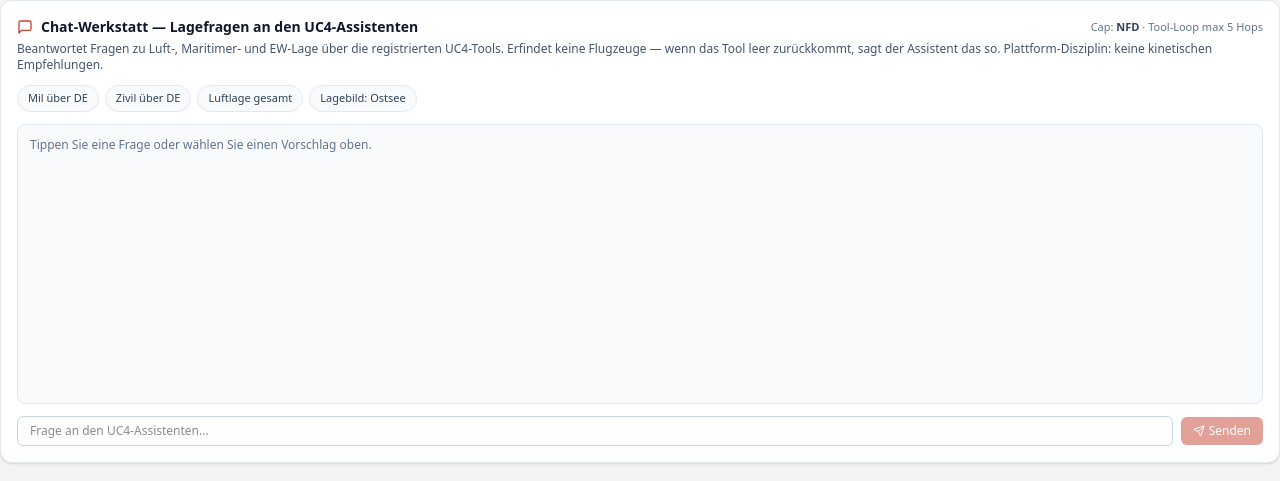
Scenario: <ChatPanel /> happy path › streams started → tool_call → tool_result → answer into the log
This screenshot has width=1280, height=481.
Type "Welche militärischen Flugzeuge fliegen über DE?" into the field with test id "uc4-chat-input" at (595, 430), box [17,416,1173,446]
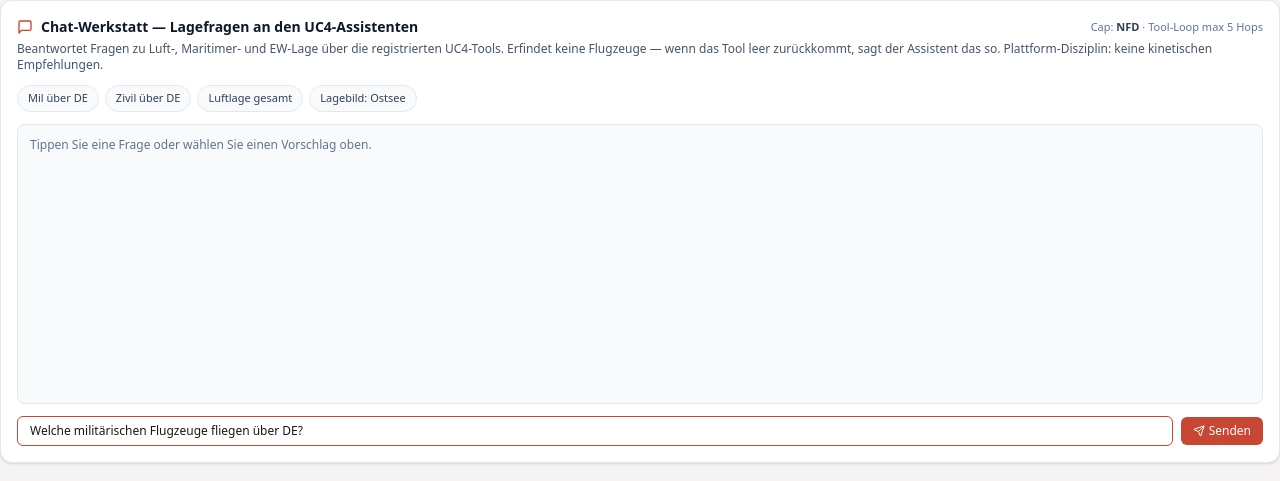
Click the button "Senden" at (1222, 430), box [1181,416,1263,444]
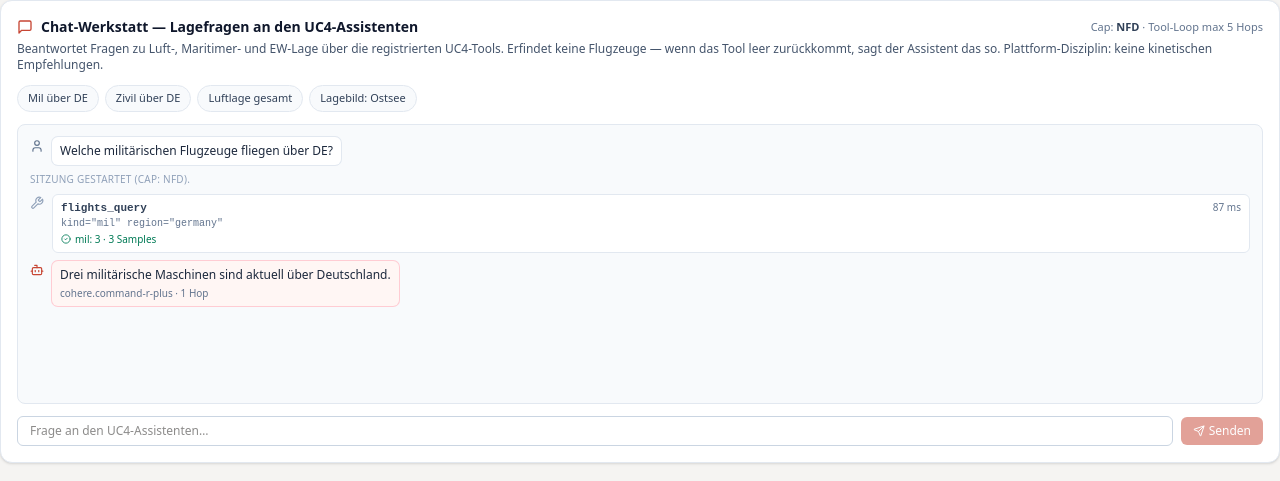
expect the text "Welche militärischen Flugzeuge fliegen über DE?" is shown: met, box [52,136,341,164]
expect the text "Drei militärische Maschinen sind aktuell über Deutschland." is shown: met, box [60,267,391,283]
expect the text "flights_query" is shown: met, box [61,201,147,216]
